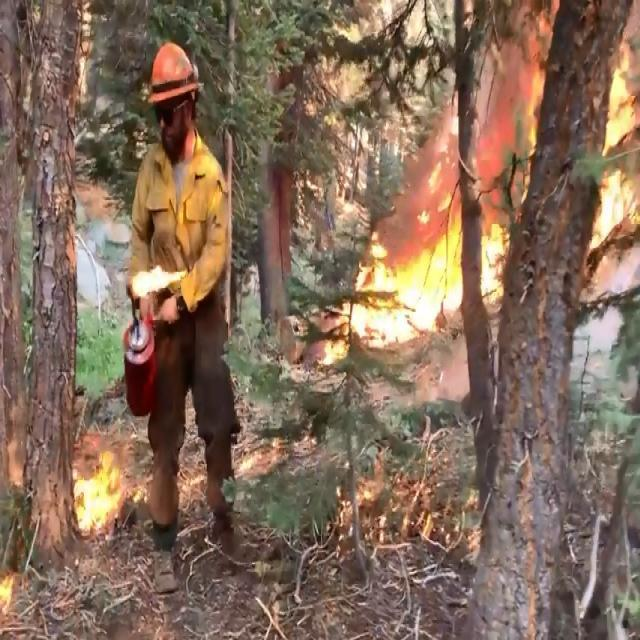Fire: (347, 73, 640, 341), (65, 440, 129, 540)
